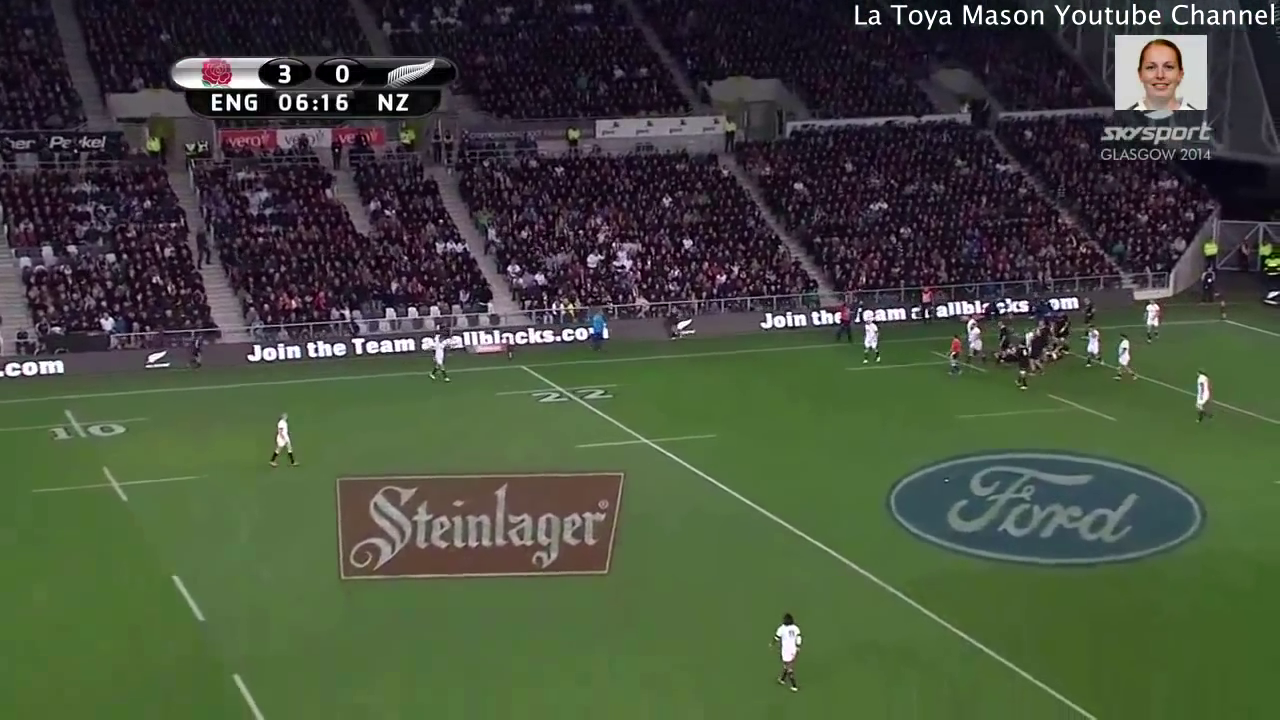10_metre: (24, 460, 213, 508), (1, 400, 156, 442)
player: (761, 604, 807, 700), (1178, 364, 1219, 436), (259, 408, 305, 470), (1108, 330, 1143, 386), (423, 333, 455, 387), (858, 316, 887, 368), (1008, 339, 1032, 395), (1139, 296, 1164, 347), (943, 331, 968, 381), (964, 319, 989, 367), (995, 316, 1018, 367), (1082, 325, 1106, 371), (1024, 330, 1045, 382), (1082, 296, 1099, 338), (1051, 309, 1071, 340), (962, 309, 980, 337)
ruck: (978, 329, 1086, 373)
